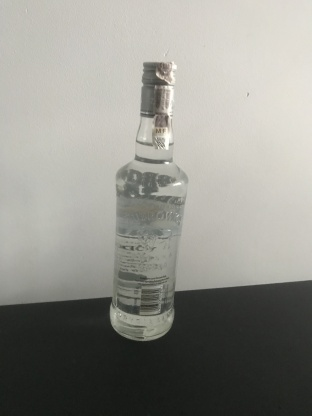nakretka: (138, 59, 178, 119)
